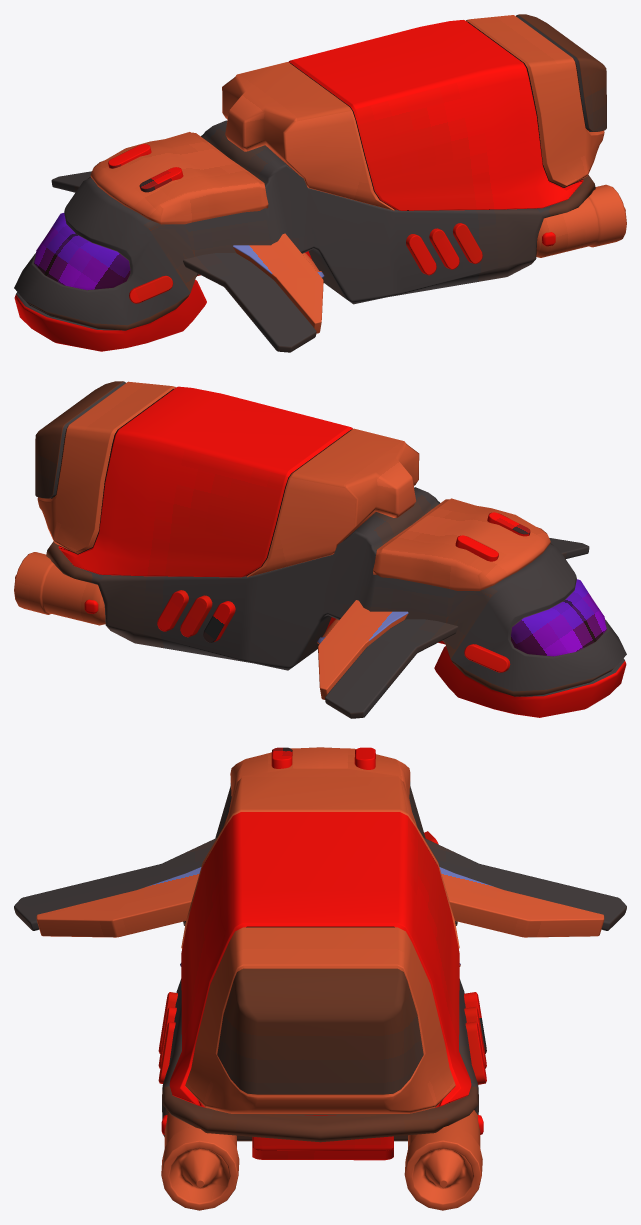
File: transportMKII.glb
3 renders of one model, top to bottom at view 1: azimuth 30°, elevation 25°; view 2: azimuth 150°, elevation 25°; view 3: azimuth 270°, elevation 25°, orthographic. The views are drawn at different scales.
Parts seen in each view (by area): view 1: Сargo_ship.001; view 2: Сargo_ship.001; view 3: Сargo_ship.001.
Boxes of the visible parts, x1,y1,x2,y2 form: Сargo_ship.001: [14, 14, 626, 352]; Сargo_ship.001: [14, 381, 626, 718]; Сargo_ship.001: [14, 747, 626, 1210].
Size of the model in its own units: 0.6085 by 0.194 by 0.4389.
1 material, 1 textured.
